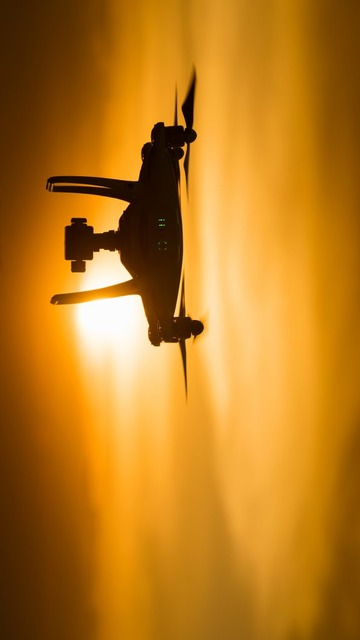drone: (47, 67, 206, 402)
